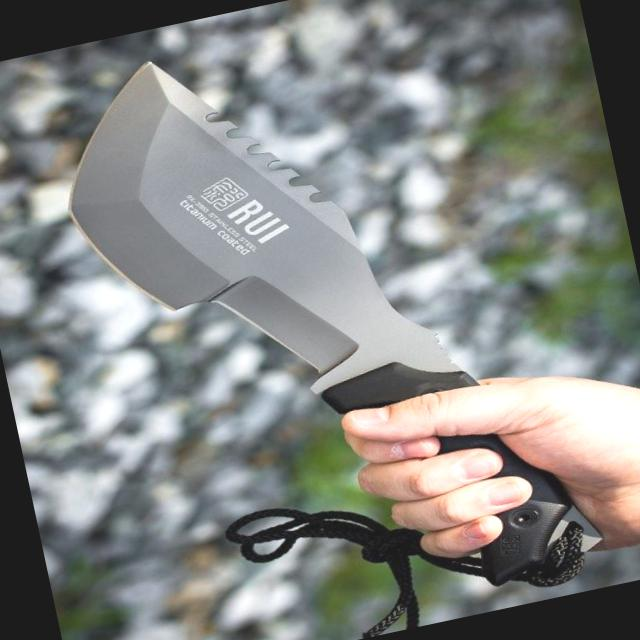knife: (9, 0, 507, 509)
